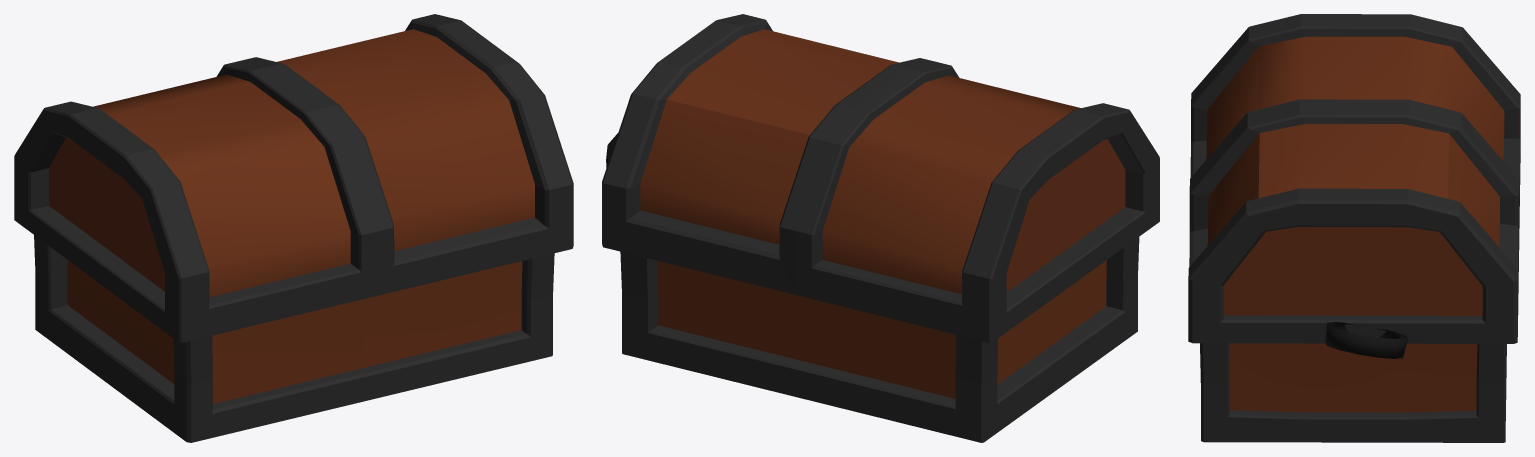
Rendered from chest.glb.
3 views of the same model, side by side, from view 1: azimuth 30°, elevation 25°; view 2: azimuth 150°, elevation 25°; view 3: azimuth 270°, elevation 25° (orthographic). The views are drawn at different scales.
Parts seen in each view (by area): view 1: Chest; view 2: Chest; view 3: Chest.
Boxes of the visible parts, bbox=[...] form: Chest: bbox=[14, 14, 573, 442]; Chest: bbox=[602, 14, 1159, 442]; Chest: bbox=[1188, 14, 1520, 442].
Size of the model in its own units: 1.98 by 1.04 by 1.26.
3 materials, 1 textured.
